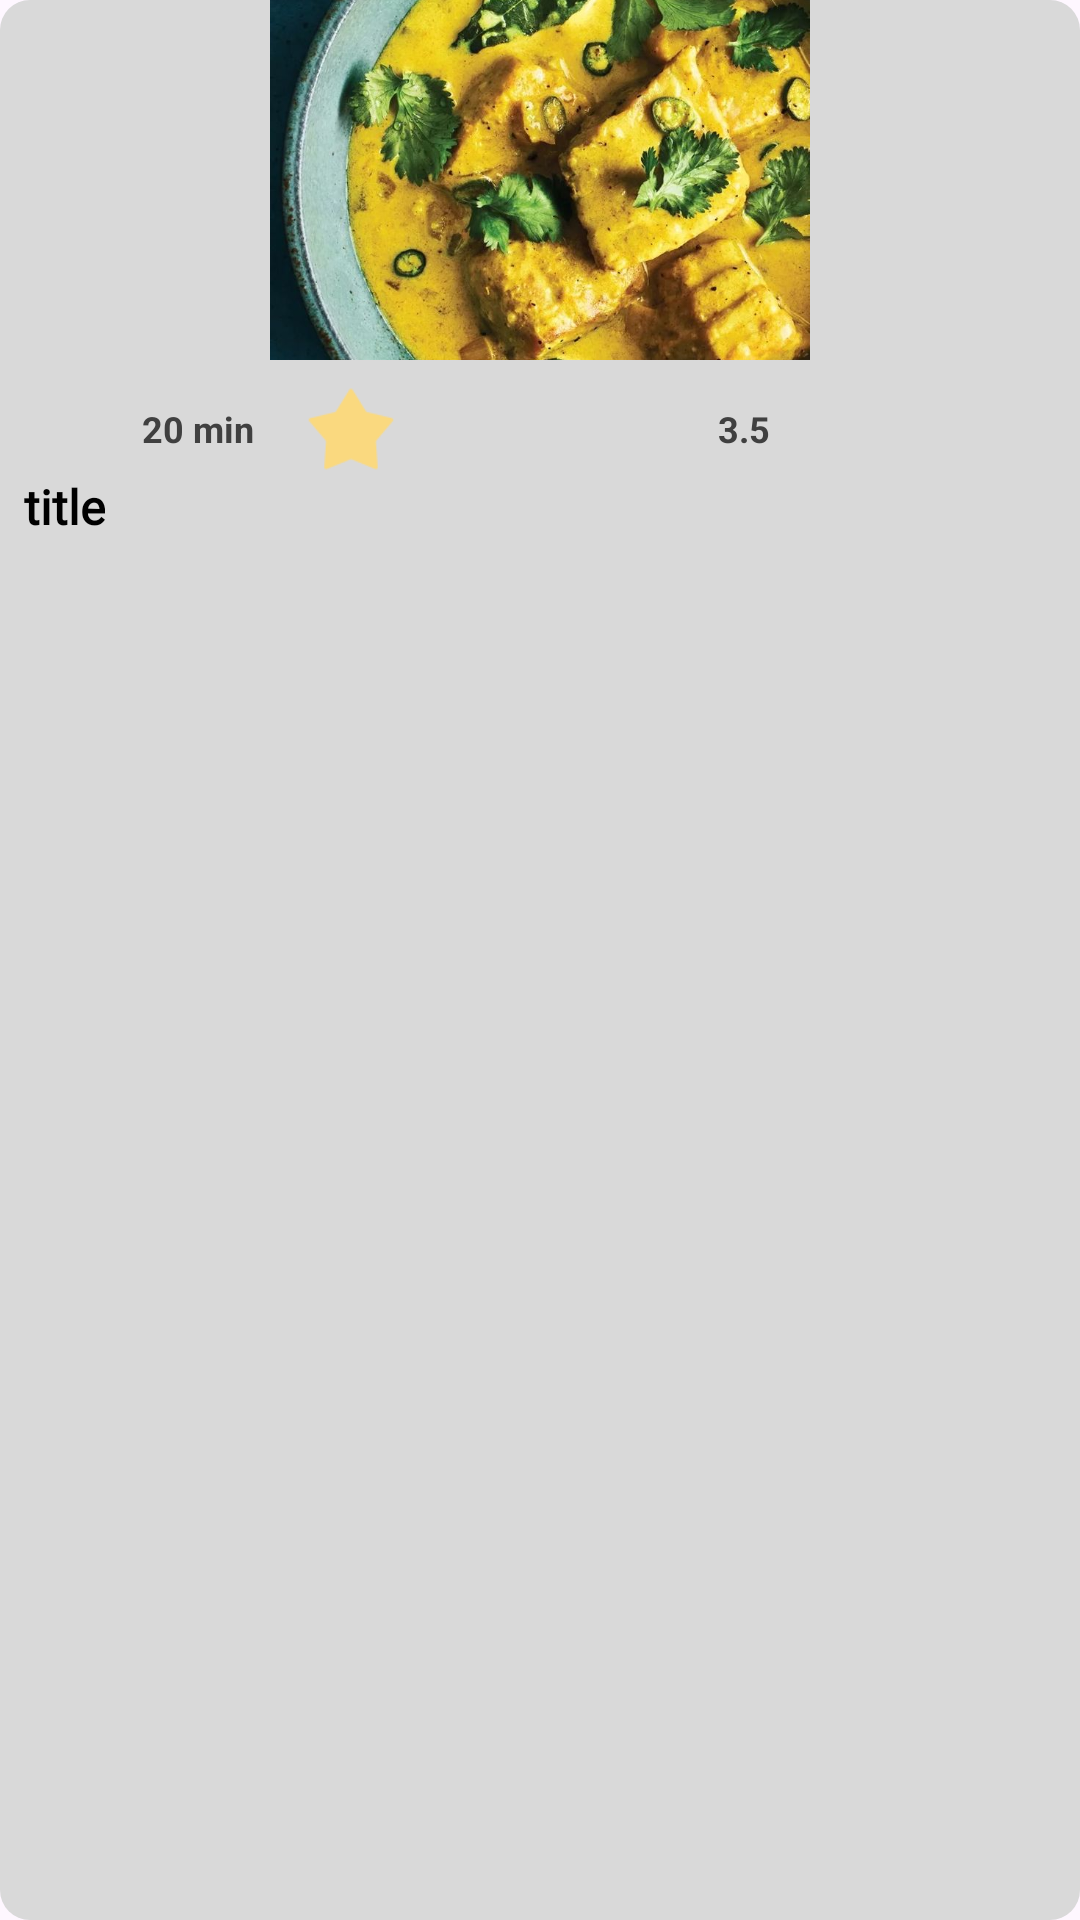

Screen size 1080px x 1920px. Icon name, then its box in pixels as detection(x1, y1, x2, y2):
star: detection(309, 388, 393, 470)
